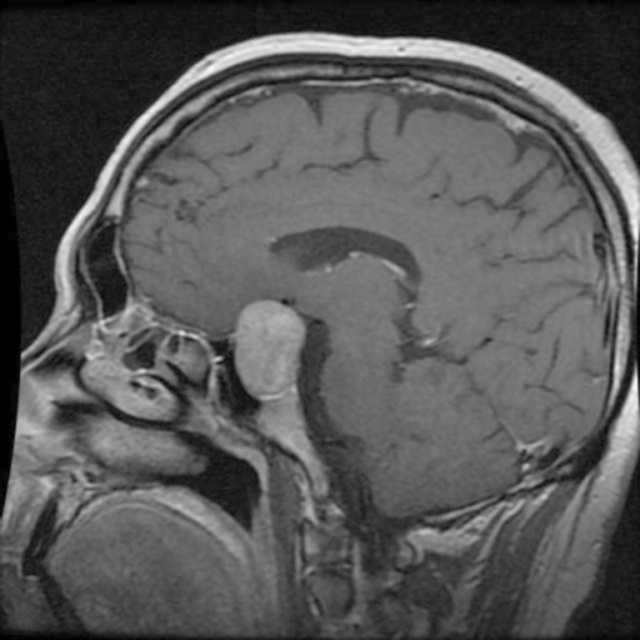no tumor: (236, 296, 304, 406)
